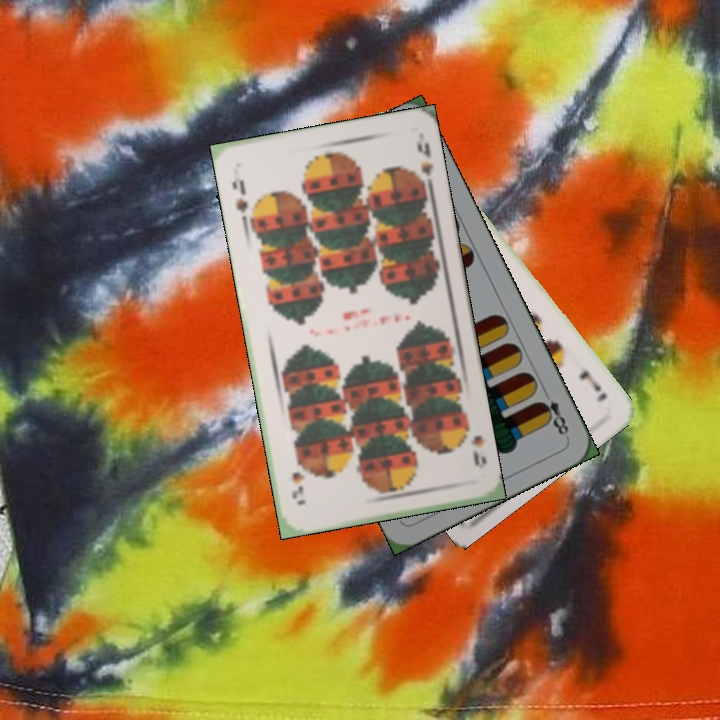E7: (575, 366, 609, 405)
E8: (534, 385, 572, 438)
S9: (457, 418, 489, 468), (228, 172, 250, 216)
